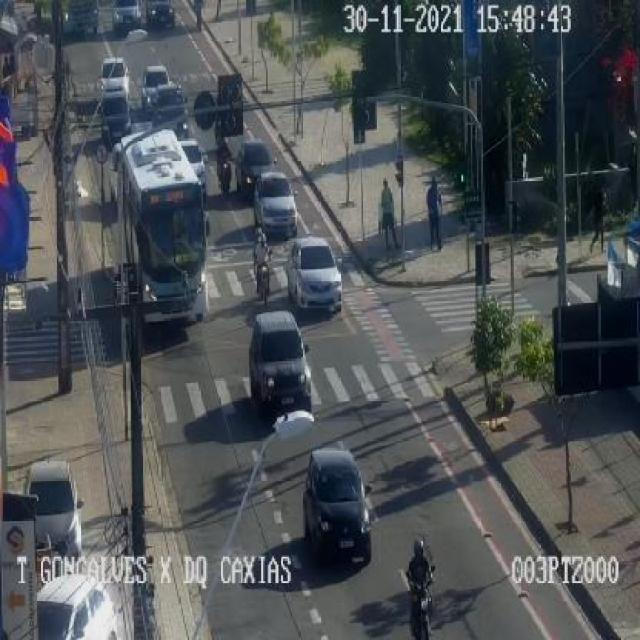Bus: (108, 128, 209, 326)
Car: (302, 447, 372, 566), (248, 314, 313, 422), (25, 462, 83, 560), (37, 575, 121, 639), (286, 237, 342, 312), (252, 172, 298, 238), (238, 142, 278, 202), (140, 66, 182, 120), (99, 94, 133, 148), (100, 56, 131, 101), (64, 1, 98, 37), (112, 1, 142, 34), (144, 0, 174, 29)
